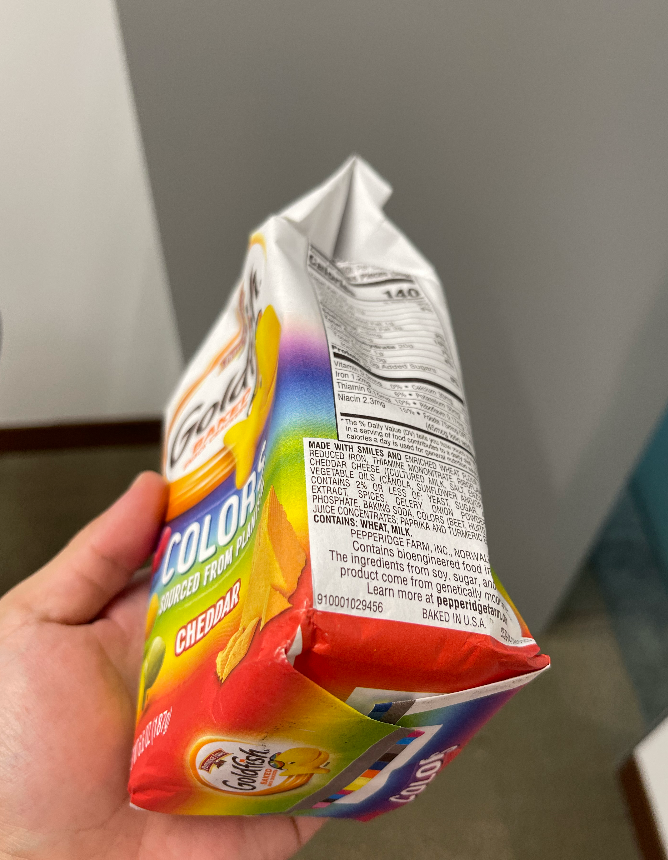crackers_100g-199g: (160, 357, 482, 802)
